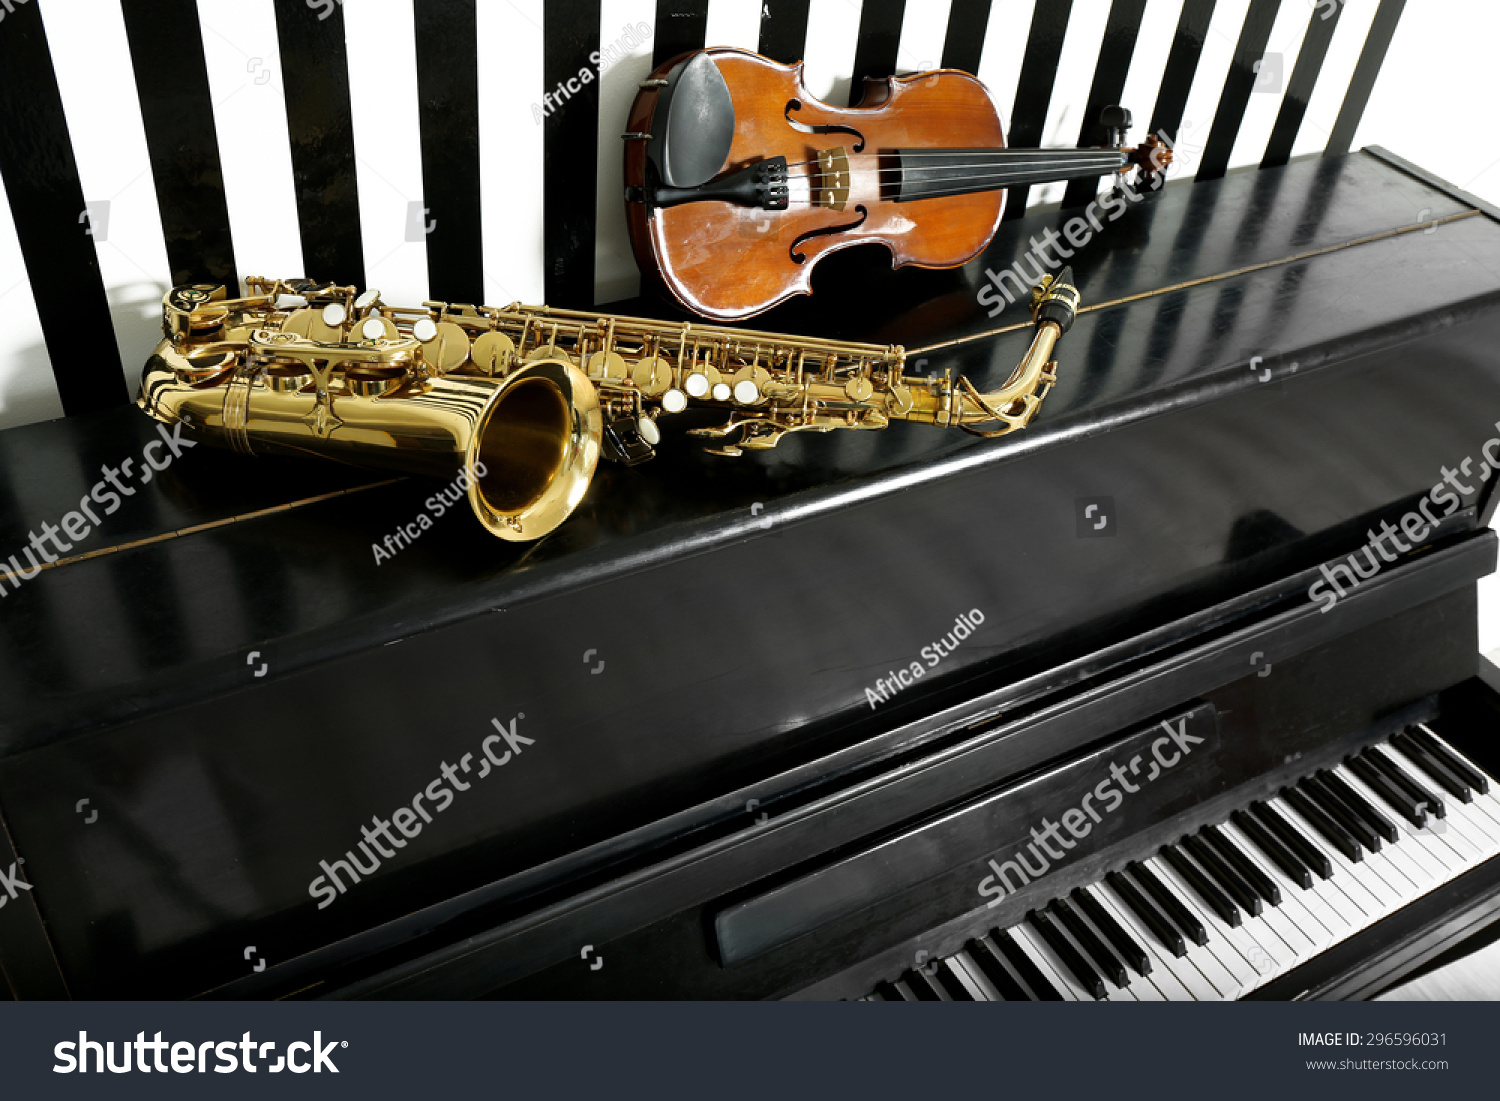Piano: (468, 456, 1493, 993)
Saxophone: (112, 231, 1123, 530)
Violin: (590, 36, 1411, 405)
